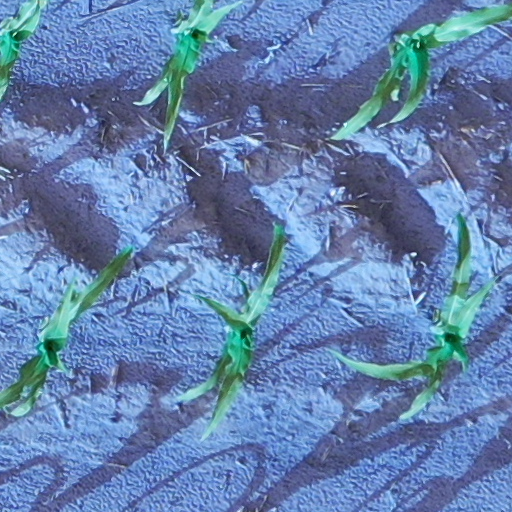planta: (331, 211, 499, 424), (174, 220, 291, 442)
